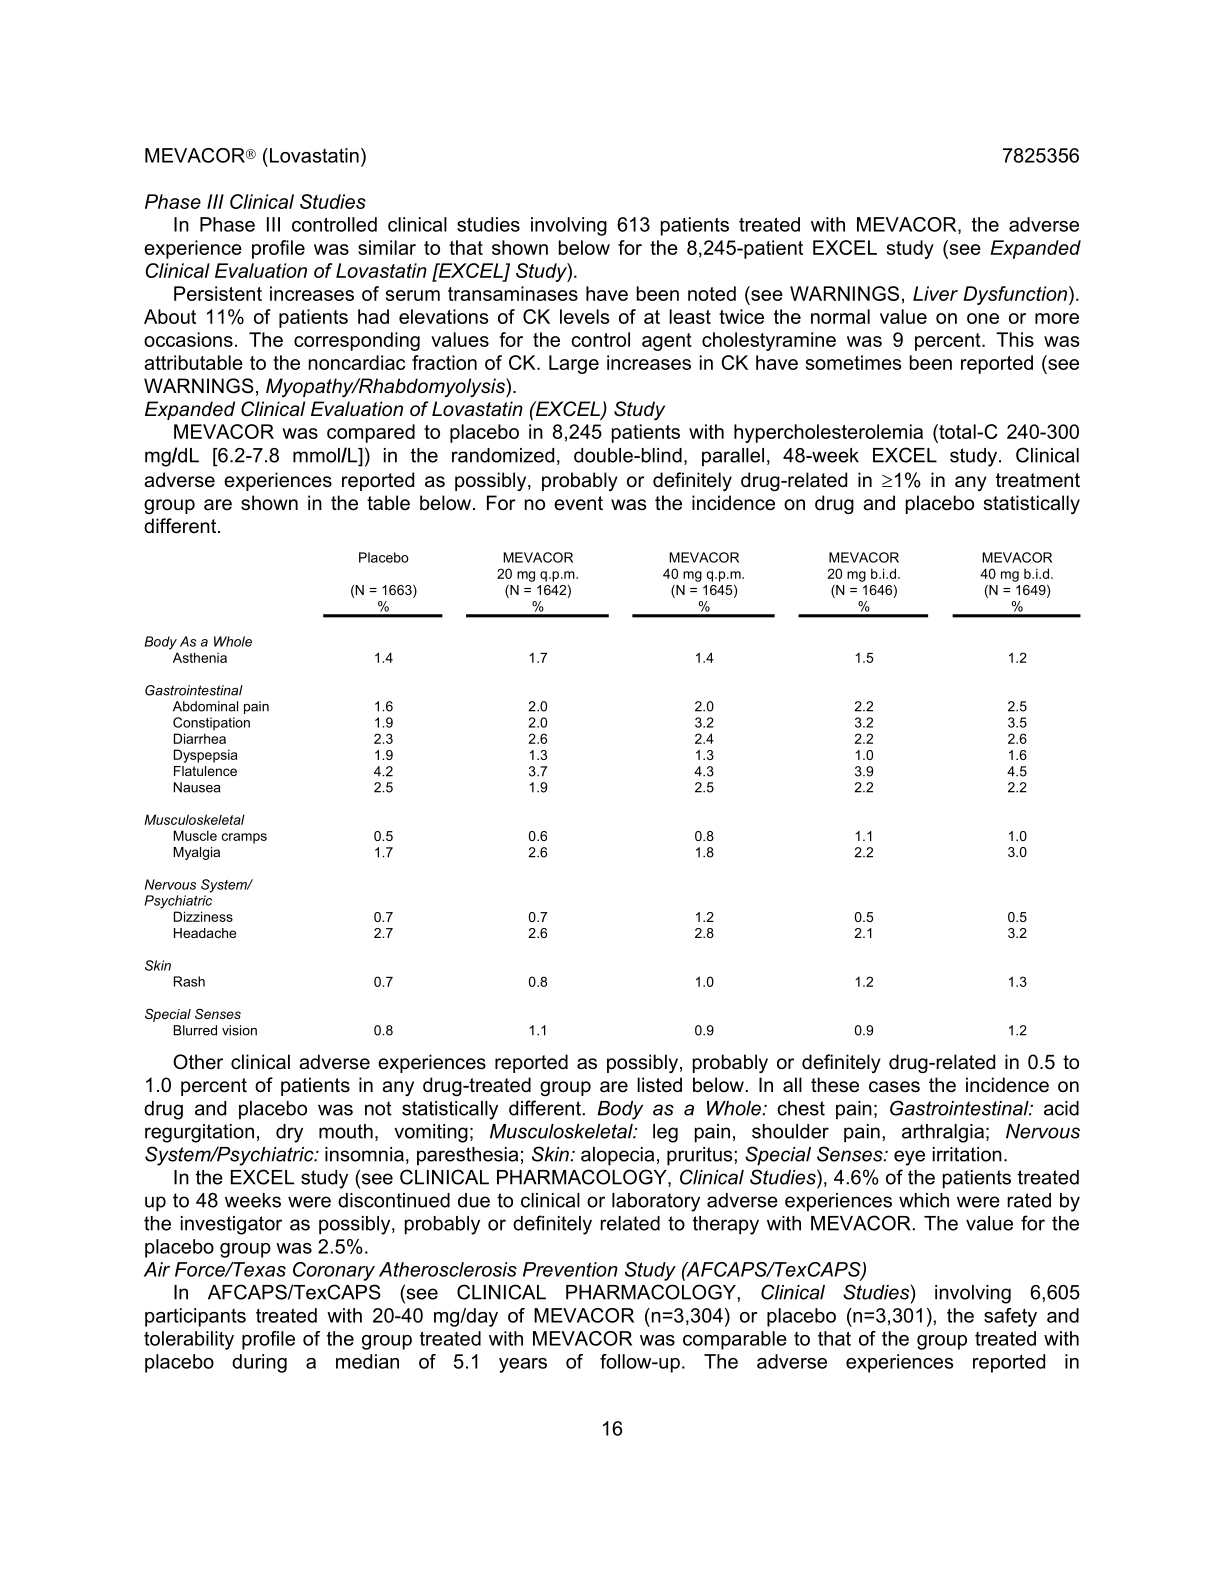nolines: (141, 549, 1080, 1041)
